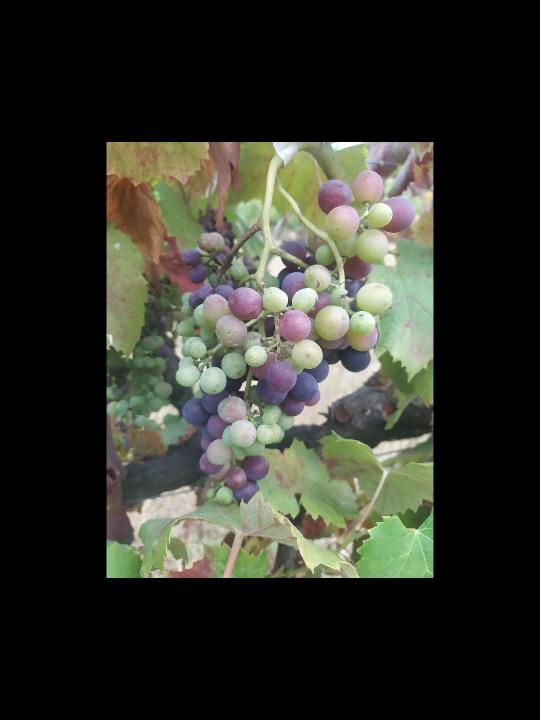grape: (176, 169, 419, 510)
